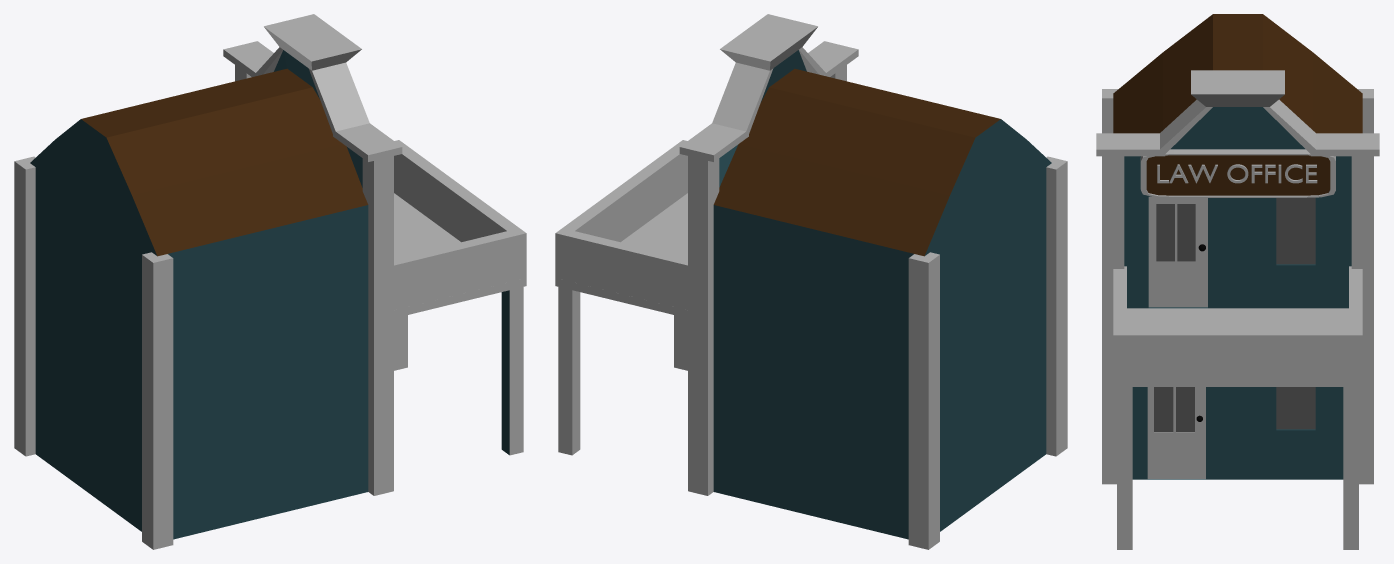
File: Law Ofiice.fbx
The picture shows the model from 3 angles, left to right: view 1: azimuth 30°, elevation 25°; view 2: azimuth 150°, elevation 25°; view 3: azimuth 270°, elevation 25°; orthographic projection. The views are drawn at different scales.
Visible parts, largest first — view 1: Law Office; view 2: Law Office; view 3: Law Office.
Boxes of the visible parts, bbox=[...] form: Law Office: bbox=[14, 14, 526, 549]; Law Office: bbox=[555, 14, 1067, 549]; Law Office: bbox=[1096, 14, 1379, 549].
Size of the model in its own units: 933 by 954 by 617.
